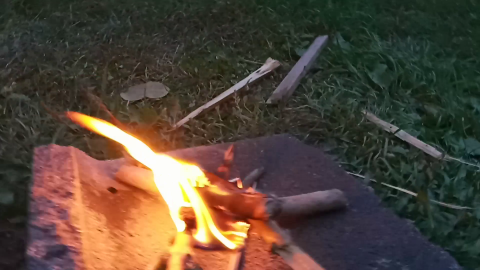fire: (58, 106, 262, 234)
